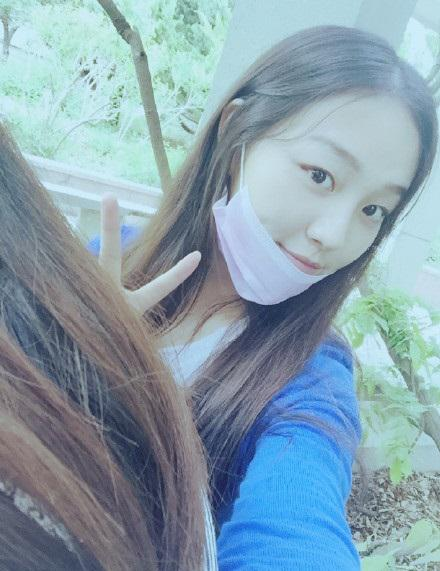WRONG: (231, 128, 403, 300)
